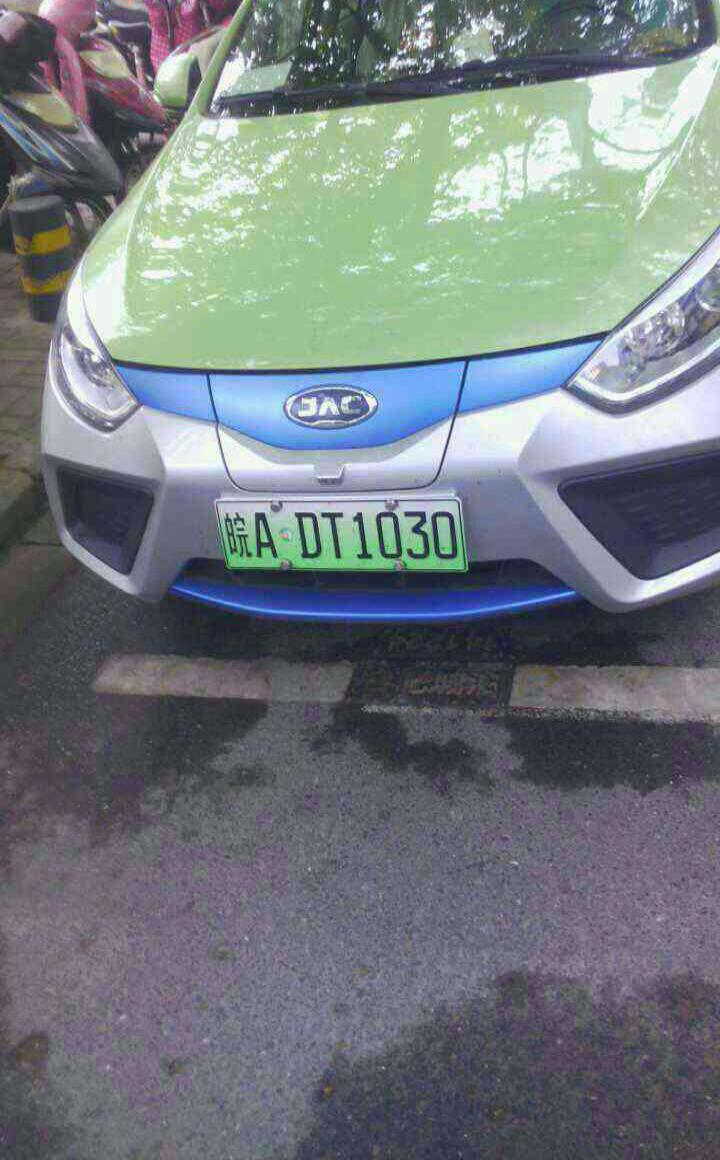car: (214, 498, 477, 580)
